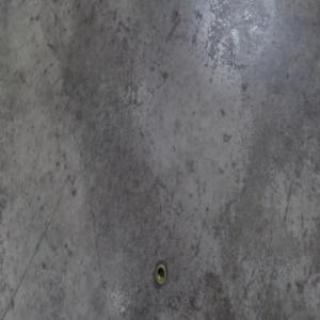Nuttrack_idkeyframe: (154, 260, 167, 287)
